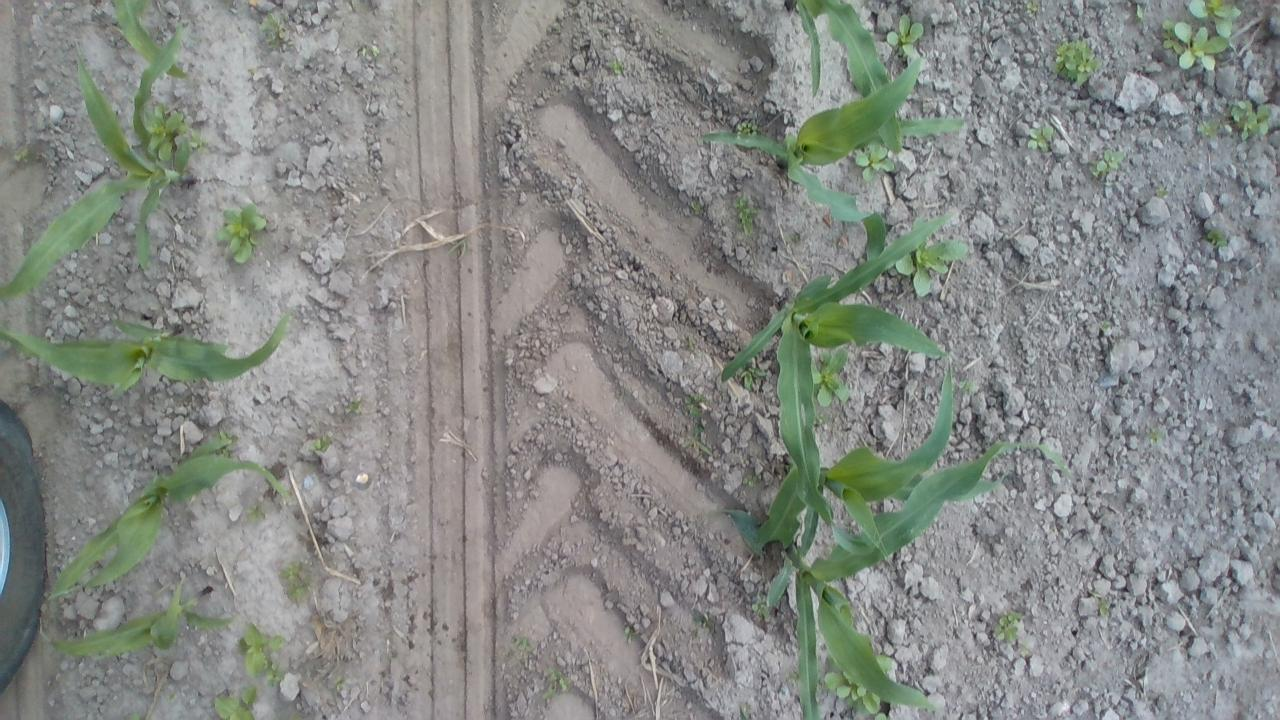Maize: (762, 436, 1074, 720), (726, 206, 959, 558), (690, 47, 970, 265), (0, 18, 200, 311), (724, 352, 958, 572), (42, 431, 296, 605), (0, 311, 301, 404), (783, 0, 904, 157), (35, 588, 234, 666), (112, 0, 190, 82)
Weeds: (1158, 17, 1231, 78), (896, 240, 970, 298), (210, 202, 266, 268), (1053, 37, 1111, 94), (236, 618, 288, 677), (824, 669, 880, 715), (144, 104, 186, 164), (813, 348, 855, 405), (276, 558, 316, 610), (681, 388, 712, 454), (886, 9, 925, 61), (210, 683, 264, 720), (1229, 96, 1272, 142), (1187, 0, 1244, 34), (853, 142, 897, 185), (254, 8, 288, 53), (1088, 145, 1130, 180), (992, 606, 1026, 646), (538, 662, 571, 702), (732, 194, 760, 236), (1024, 122, 1054, 152), (305, 428, 332, 459), (689, 603, 717, 632), (1086, 586, 1110, 618), (1204, 224, 1234, 249), (1142, 422, 1166, 450), (738, 365, 766, 388), (512, 633, 540, 655), (750, 592, 771, 621), (1198, 116, 1222, 140), (262, 666, 286, 688), (244, 500, 266, 522), (603, 56, 628, 74), (735, 119, 761, 136), (340, 394, 360, 415), (958, 377, 978, 398), (360, 44, 380, 63), (784, 668, 800, 688), (620, 622, 634, 644), (679, 336, 698, 352), (12, 147, 28, 164), (785, 229, 803, 244), (1134, 3, 1145, 25), (1022, 0, 1038, 15), (1153, 186, 1169, 201), (814, 409, 828, 426), (742, 474, 757, 487), (1100, 318, 1113, 330), (690, 198, 701, 212)
